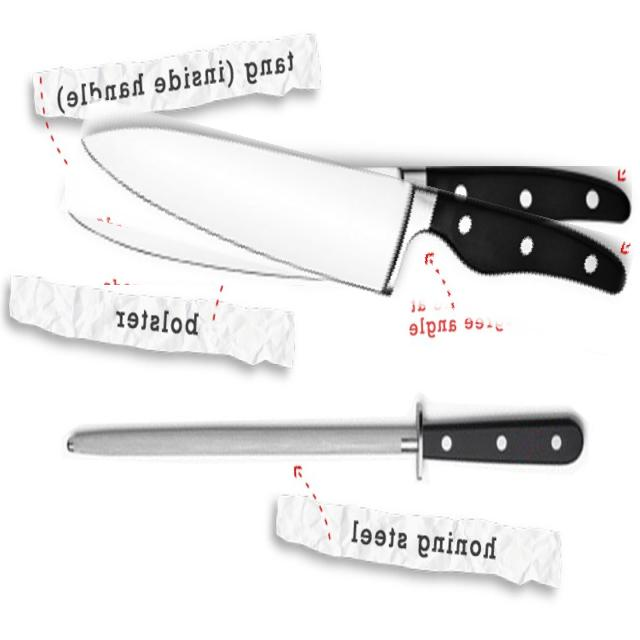knife: (62, 130, 635, 321)
